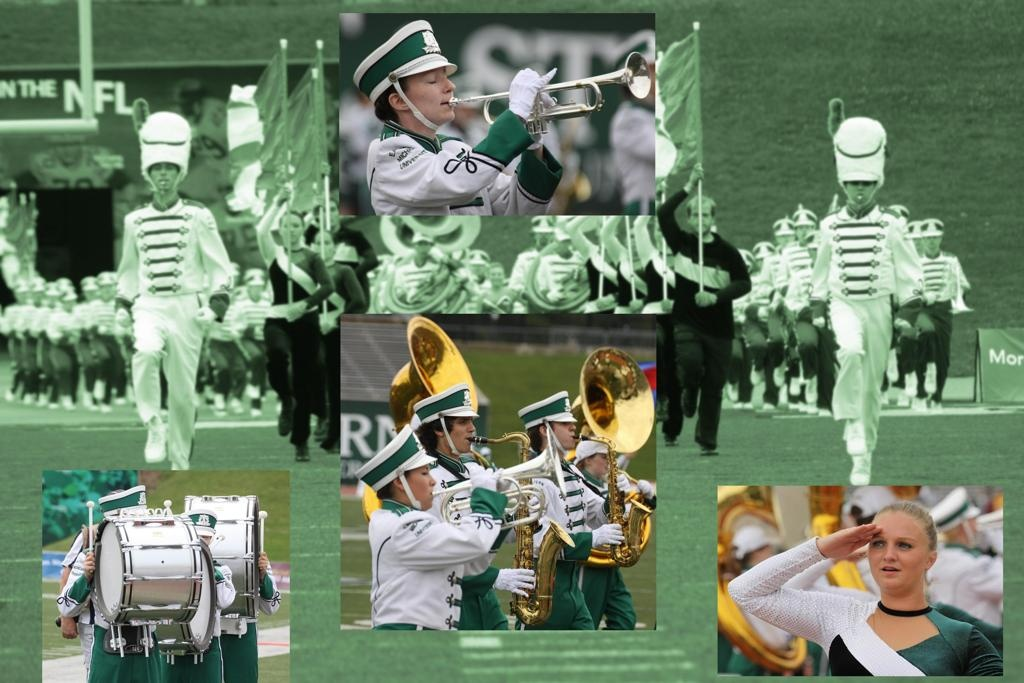human_face: (868, 511, 922, 590), (404, 66, 456, 122), (402, 464, 434, 508), (447, 415, 475, 451), (149, 160, 179, 192), (844, 178, 876, 206), (550, 417, 576, 450), (688, 204, 712, 234), (280, 214, 302, 244), (590, 446, 610, 474), (314, 234, 334, 260), (320, 202, 338, 228), (558, 236, 576, 258), (796, 225, 814, 244), (628, 230, 644, 251), (488, 268, 504, 286), (924, 236, 940, 254), (415, 240, 429, 258), (776, 234, 794, 248), (535, 232, 551, 245), (909, 236, 921, 252), (250, 285, 262, 301), (756, 258, 770, 270), (98, 286, 112, 298), (82, 290, 96, 300), (46, 294, 58, 304), (472, 265, 482, 275), (16, 292, 26, 302), (32, 290, 42, 300), (62, 298, 72, 308)
